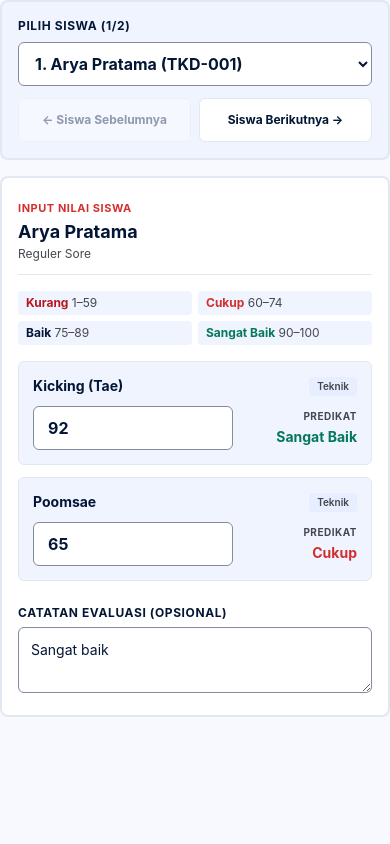
Test: EvaluationMobileScorer › merender pilihan siswa dan kartu aspek dengan label predikat
Check: the heading "Arya Pratama" is shown, box [18,221,138,242]
Check: the text "Kicking (Tae)" is shown, box [33,376,123,396]
Click the button "Siswa Berikutnya ->".
click(286, 120)  # box [199,98,372,142]
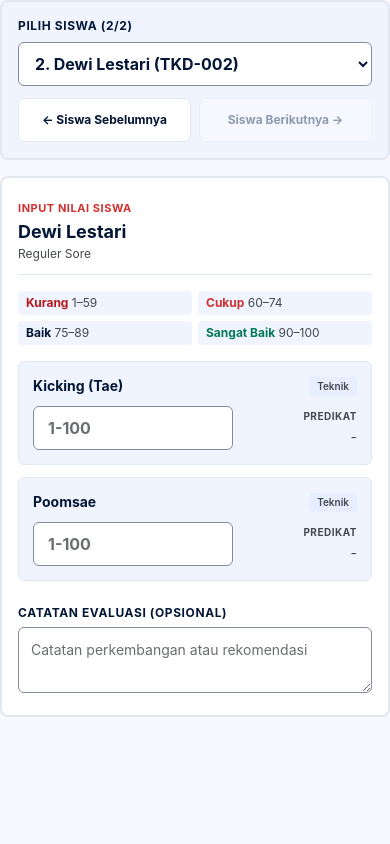
Check: the heading "Dewi Lestari" is shown, box [18,221,126,242]
